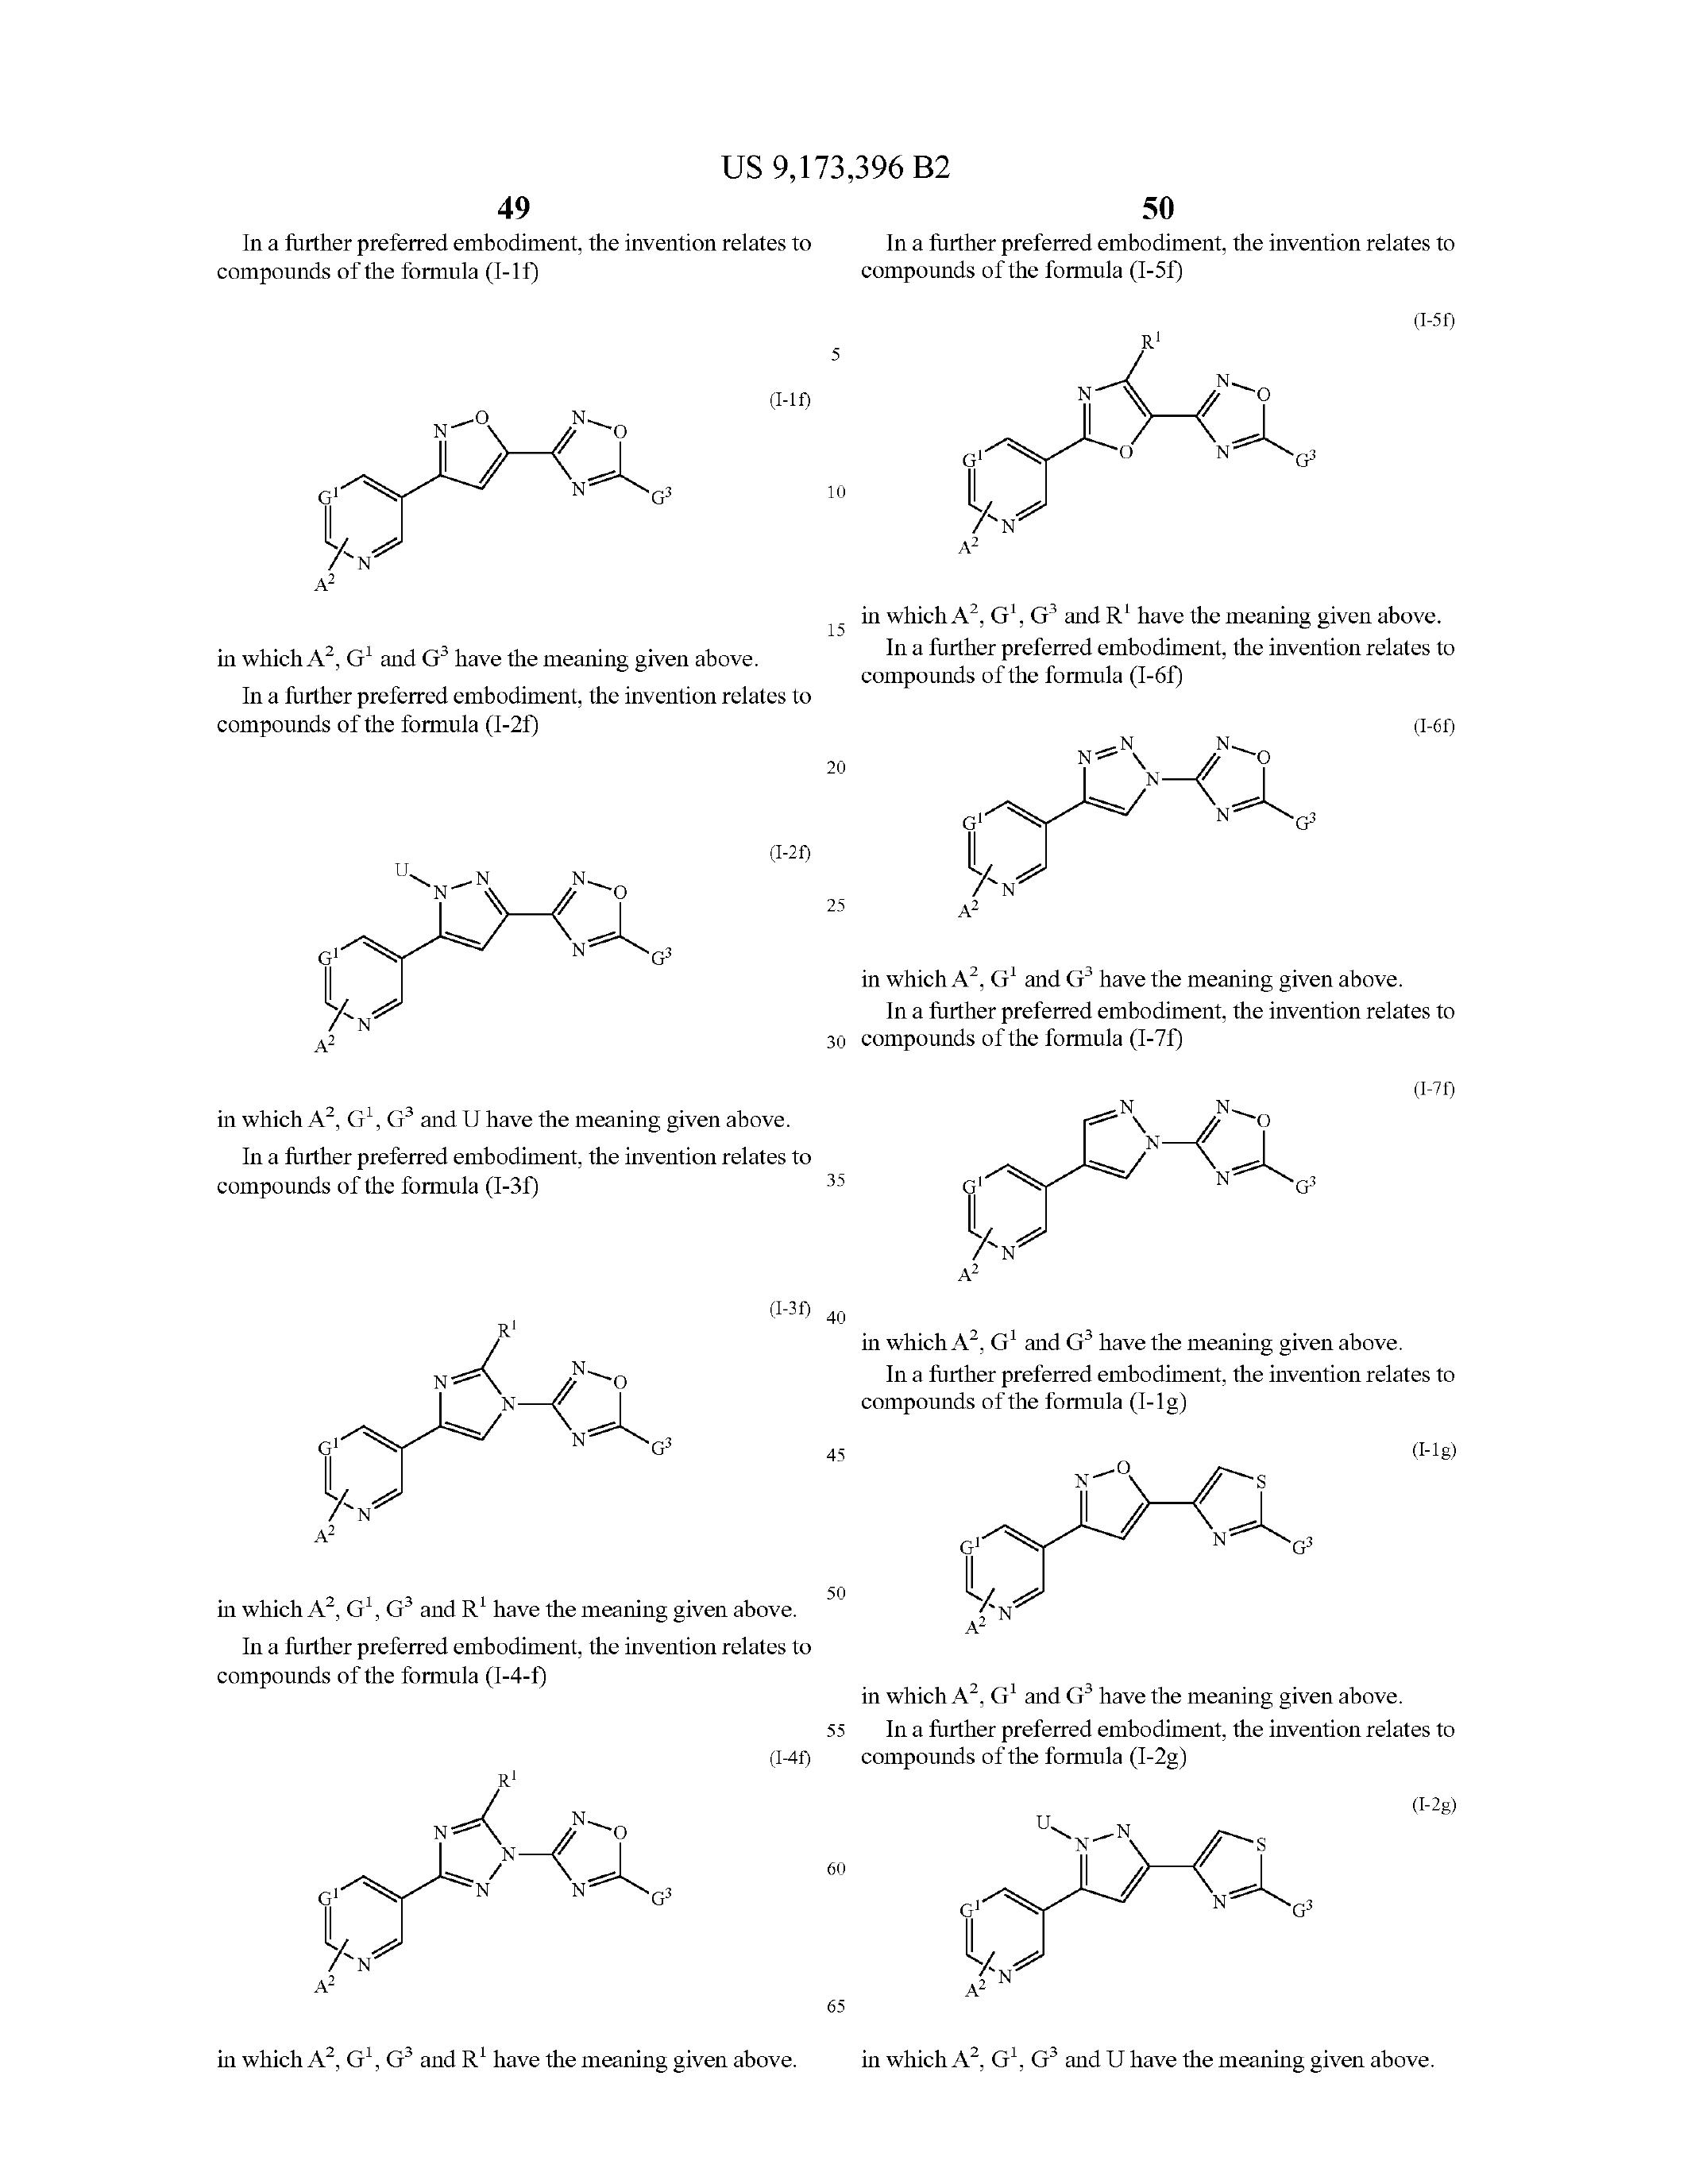substitutes: (160, 1214, 762, 1565)
